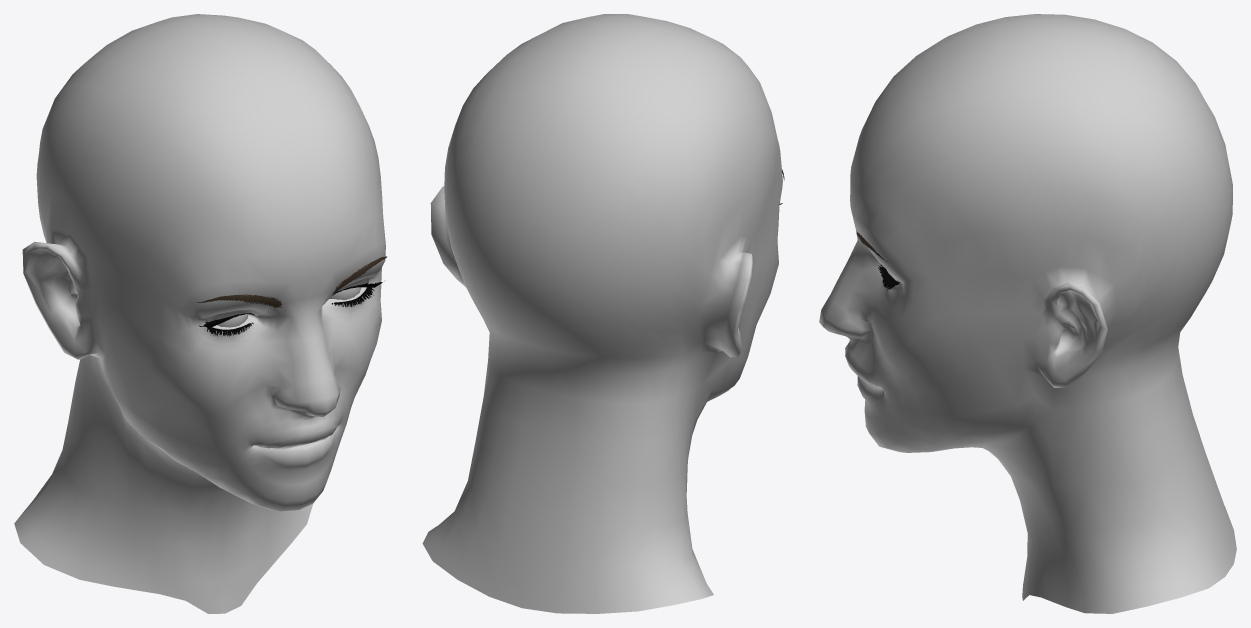
File: Head.fbx
The picture shows the model from 3 angles, left to right: view 1: azimuth 30°, elevation 25°; view 2: azimuth 150°, elevation 25°; view 3: azimuth 270°, elevation 25°; orthographic projection. The views are drawn at different scales.
Visible parts, largest first — view 1: Head; view 2: Head; view 3: Head.
Boxes of the visible parts, x1,y1,x2,y2 form: Head: (14,14,387,613); Head: (422,14,784,613); Head: (819,14,1236,613).
Size of the model in its own units: 0.6096 by 1.01 by 0.6754.
